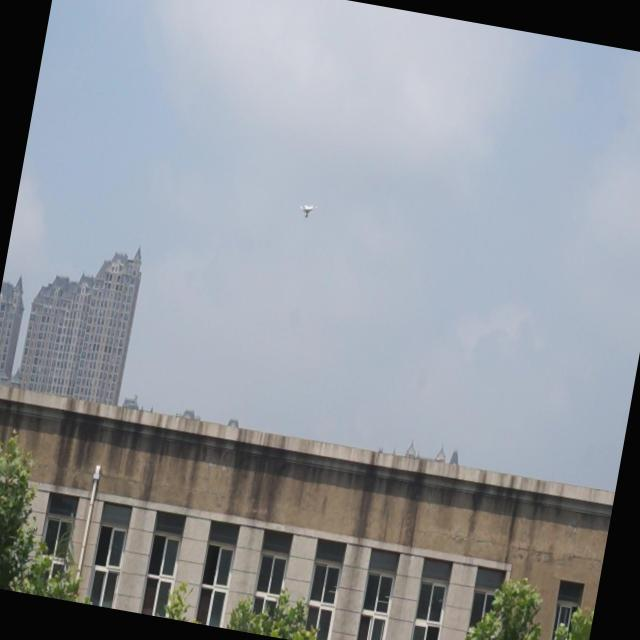drone: (296, 198, 318, 226)
